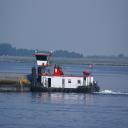tugboat: (28, 51, 102, 96)
